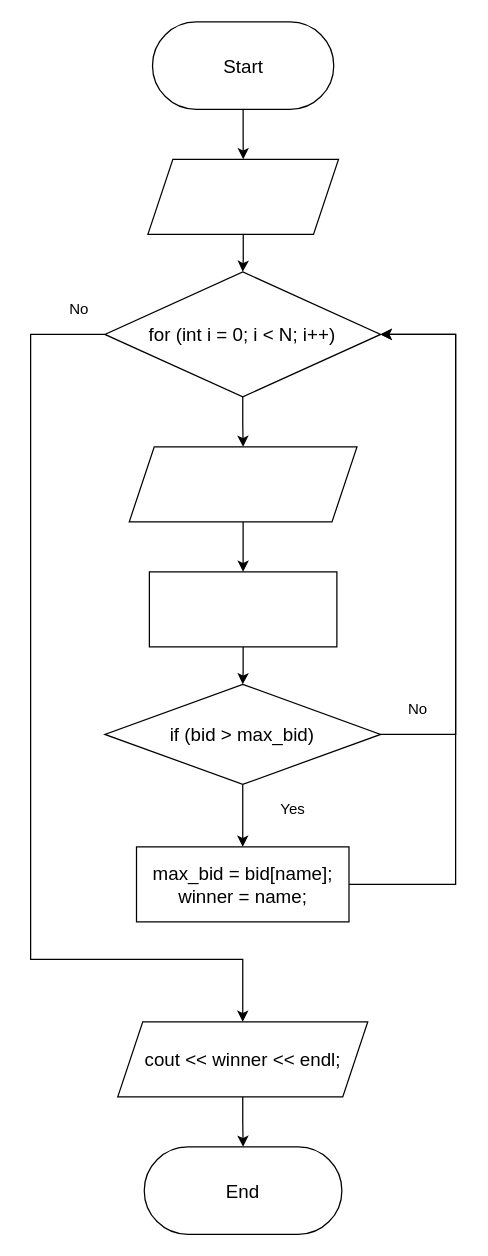
The diagram is 488 pixels wide and 1256 high, and some of its shapes have lost their labels. Each missing label, with the box of its shape:
bids[name] = bid;: (148, 571, 337, 647)
cin >> N;: (147, 158, 338, 234)
cin >> name >> bid;: (128, 446, 357, 522)
